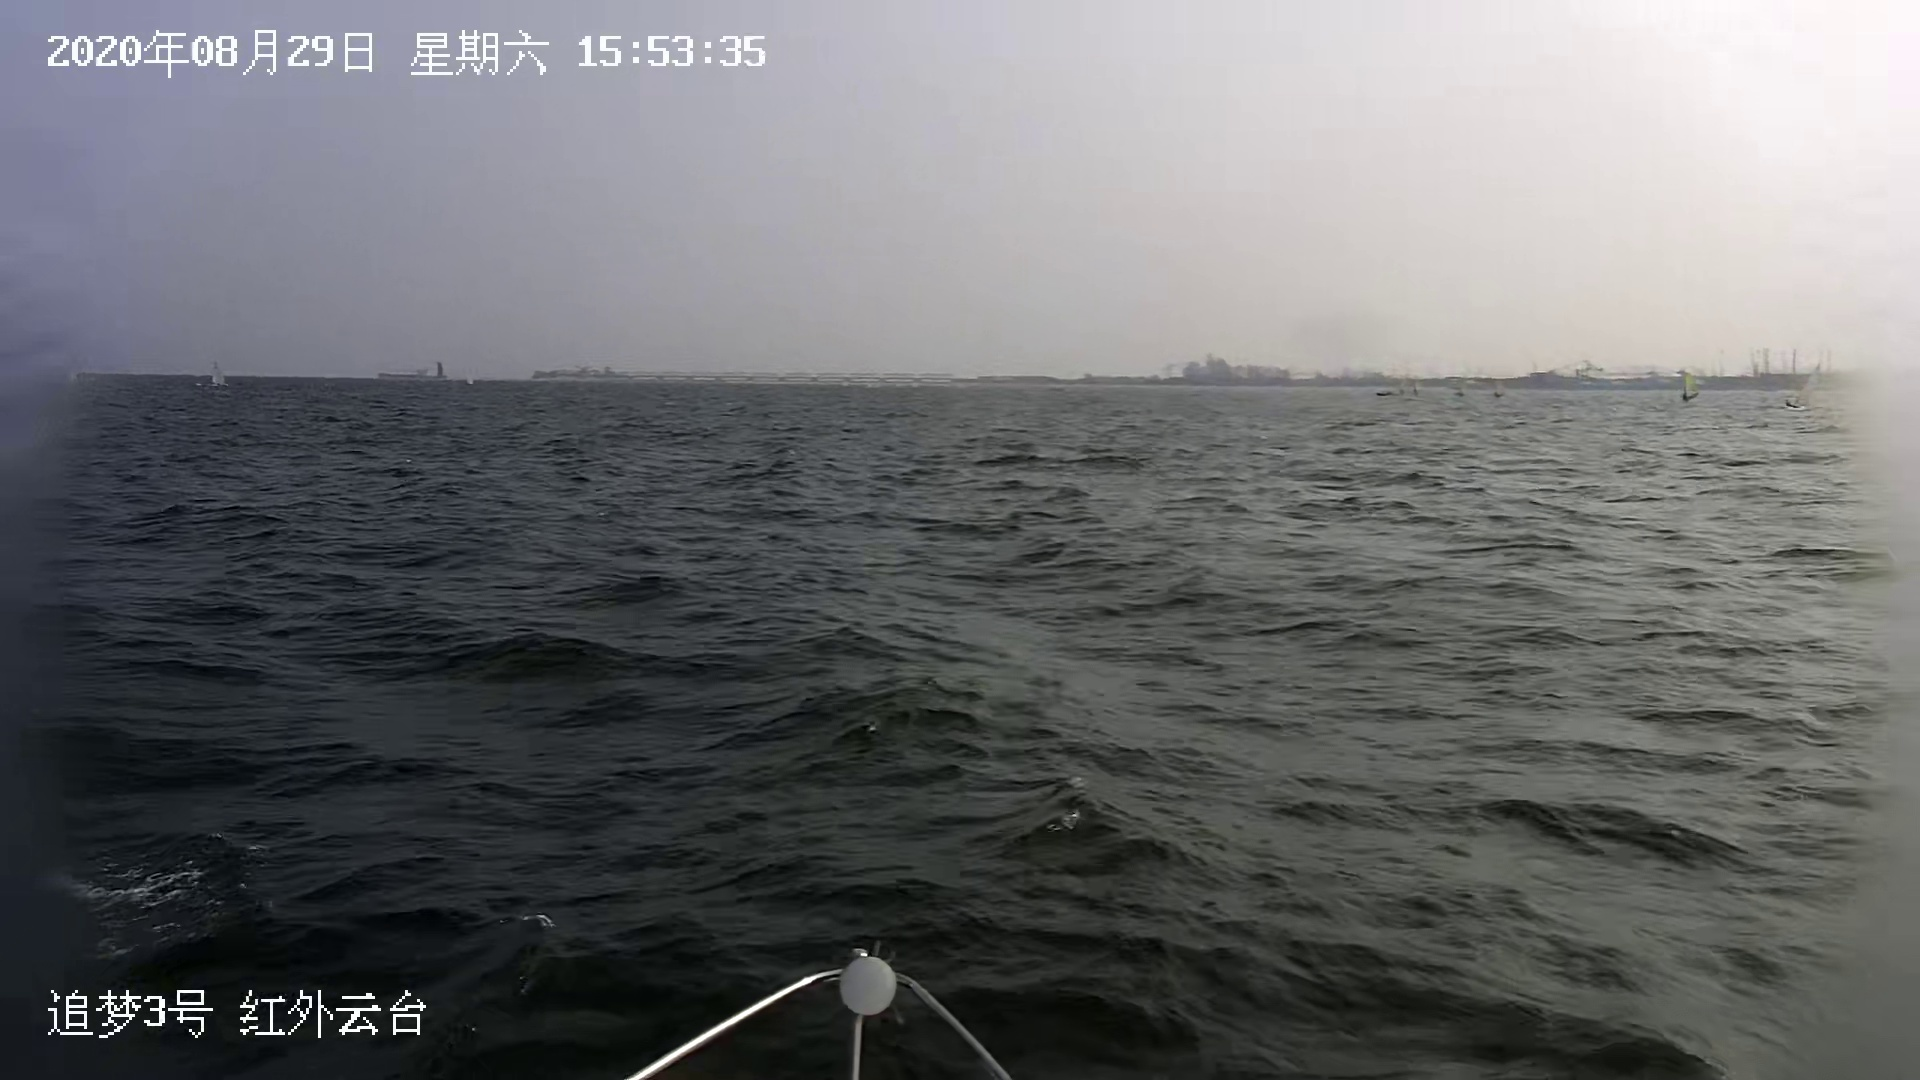barrier: (1788, 367, 1818, 409), (208, 359, 229, 386), (1683, 369, 1698, 404), (1495, 378, 1507, 400), (1452, 380, 1466, 397), (1375, 385, 1394, 397), (1399, 378, 1407, 393), (1414, 381, 1422, 396)
coast: (378, 338, 1905, 396)
